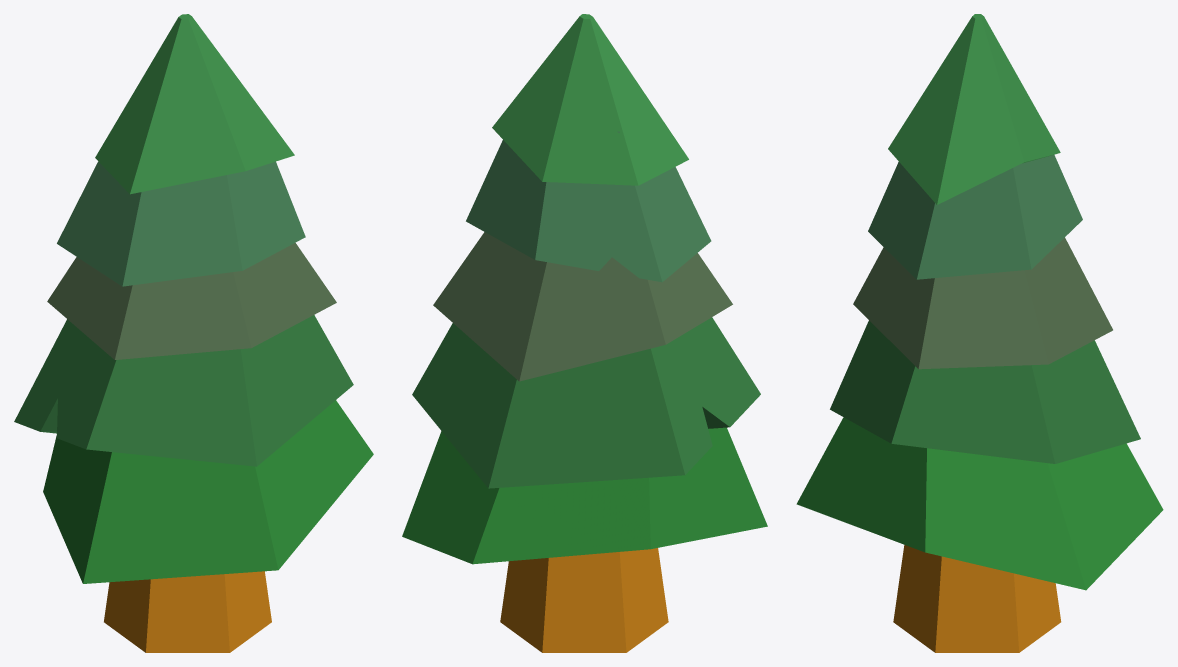
Rendered from Tree_b_Two_mesh.glb.
3 views of the same model, side by side, from view 1: azimuth 30°, elevation 25°; view 2: azimuth 150°, elevation 25°; view 3: azimuth 270°, elevation 25° (orthographic).
Visible parts, largest first — view 1: Cylinder.011; view 2: Cylinder.011; view 3: Cylinder.011.
Boxes of the visible parts, x1,y1,x2,y2 form: Cylinder.011: (14, 14, 373, 652); Cylinder.011: (402, 14, 767, 652); Cylinder.011: (796, 14, 1163, 652).
Bounding box in the file's own units: 4.17 × 7.95 × 4.37.
